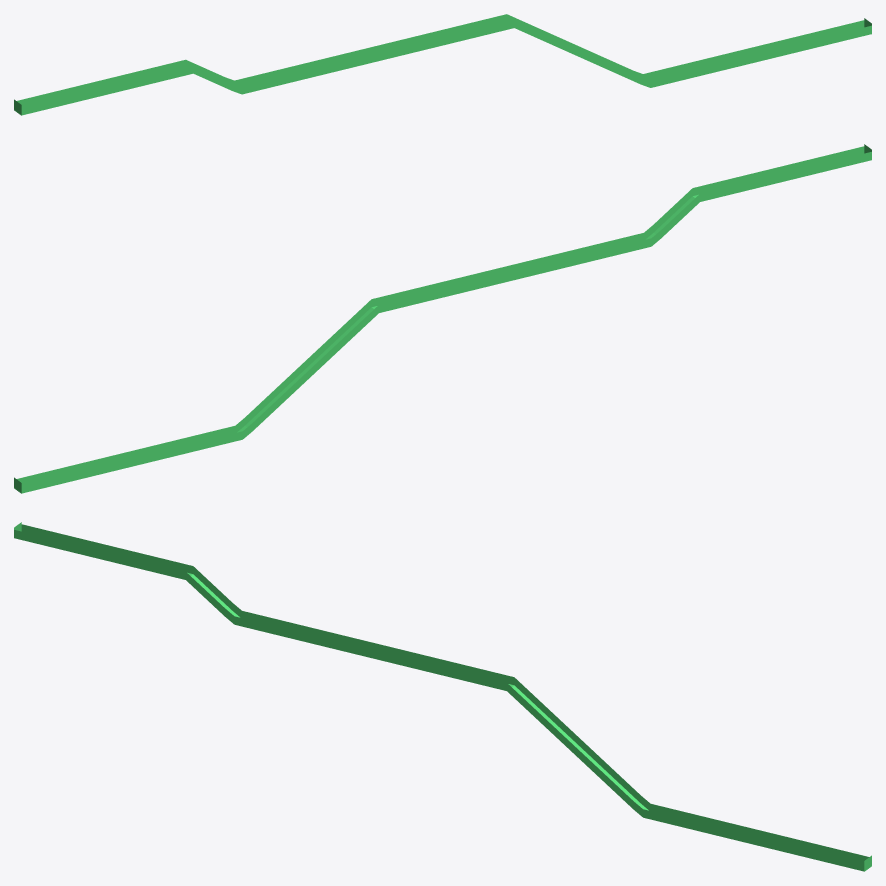
Rendered from EggmanCasteloXadrezColisao.glb.
3 renders of one model, top to bottom at view 1: azimuth 30°, elevation 25°; view 2: azimuth 210°, elevation 25°; view 3: azimuth 330°, elevation 25°, orthographic.
Visible parts, largest first — view 1: Eggman_Sector_8, Eggman_Sector_20, Eggman_Sector_6, Eggman_Sector_9, Eggman_Sector_18, Eggman_Sector_11, Eggman_Sector_17, Eggman_Sector_0, Eggman_Sector_1, Eggman_Sector_2, Eggman_Sector_4, Eggman_Sector_12 (+10 smaller); view 2: Eggman_Sector_4, Eggman_Sector_13, Eggman_Sector_14, Eggman_Sector_15, Eggman_Sector_5, Eggman_Sector_9, Eggman_Sector_11, Eggman_Sector_8, Eggman_Sector_6, Eggman_Sector_18, Eggman_Sector_20, Eggman_Sector_17 (+4 smaller); view 3: Eggman_Sector_4, Eggman_Sector_13, Eggman_Sector_14, Eggman_Sector_15, Eggman_Sector_5, Eggman_Sector_9, Eggman_Sector_11, Eggman_Sector_8, Eggman_Sector_6, Eggman_Sector_18, Eggman_Sector_20, Eggman_Sector_17 (+4 smaller).
Boxes of the visible parts, x1,y1,x2,y2 form: Eggman_Sector_8: (322, 48, 373, 72); Eggman_Sector_20: (789, 28, 840, 52); Eggman_Sector_6: (249, 66, 300, 90); Eggman_Sector_9: (365, 38, 416, 62); Eggman_Sector_18: (716, 45, 767, 69); Eggman_Sector_11: (438, 20, 489, 44); Eggman_Sector_17: (672, 56, 723, 80); Eggman_Sector_0: (14, 92, 60, 115); Eggman_Sector_1: (53, 82, 101, 105); Eggman_Sector_2: (94, 72, 142, 95); Eggman_Sector_4: (165, 59, 216, 83); Eggman_Sector_12: (482, 14, 527, 33); Eggman_Sector_4: (669, 183, 720, 223); Eggman_Sector_13: (319, 312, 365, 361); Eggman_Sector_14: (280, 348, 326, 397); Eggman_Sector_15: (241, 385, 287, 433); Eggman_Sector_5: (629, 210, 676, 249); Eggman_Sector_9: (469, 265, 520, 289); Eggman_Sector_11: (396, 282, 447, 307); Eggman_Sector_8: (512, 254, 563, 278); Eggman_Sector_6: (585, 236, 636, 260); Eggman_Sector_18: (118, 443, 169, 467); Eggman_Sector_20: (45, 461, 96, 485); Eggman_Sector_17: (162, 433, 213, 457); Eggman_Sector_4: (165, 561, 216, 601); Eggman_Sector_13: (520, 690, 566, 739); Eggman_Sector_14: (559, 726, 605, 775); Eggman_Sector_15: (598, 763, 644, 811); Eggman_Sector_5: (209, 588, 256, 627); Eggman_Sector_9: (365, 643, 416, 667); Eggman_Sector_11: (438, 660, 489, 685); Eggman_Sector_8: (322, 632, 373, 656); Eggman_Sector_6: (249, 614, 300, 638); Eggman_Sector_18: (716, 821, 767, 845); Eggman_Sector_20: (789, 839, 840, 863); Eggman_Sector_17: (672, 811, 723, 835).
Size of the model in its own units: 559 by 86.1 by 8.6.
